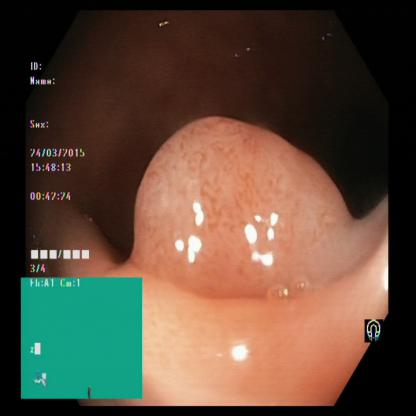Labels: (22, 60, 102, 280), (21, 282, 142, 400)
Polyps: (138, 108, 344, 290)
